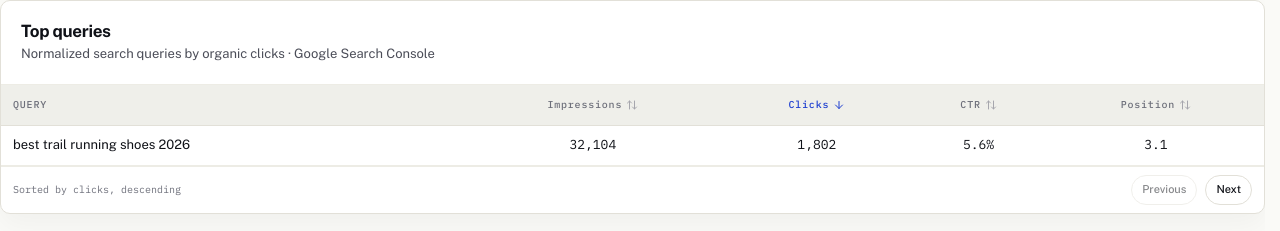
Scenario: QueriesTable › walks keyset pages with Next/Previous
The width and height of the screenshot is (1280, 231).
Expected: the text "best trail running shoes 2026" is shown, [1,125,461,165]
What coordinates should you click on to do the following:
click the button "Next"
I would click on:
 (1229, 190)
Its box is [1205,175,1252,205].
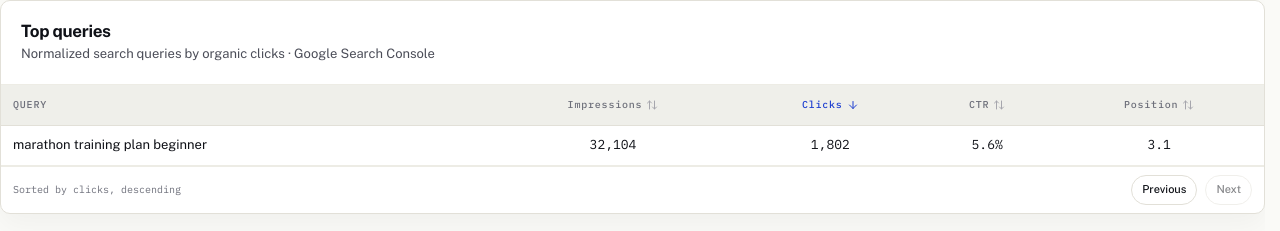
Expected: the text "marathon training plan beginner" is shown, [1,125,486,165]
Expected: the text "best trail running shoes 2026" is gone
What coordinates should you click on to do the following:
click the button "Previous"
I would click on:
 (1164, 190)
Its box is [1131,175,1197,205].
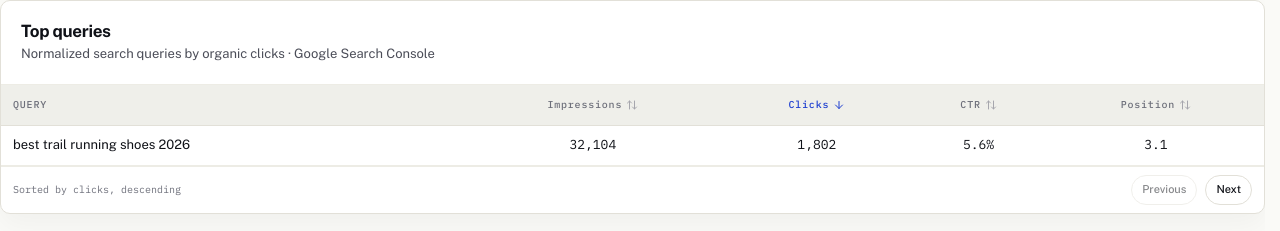
Expected: the text "best trail running shoes 2026" is shown, [1,125,461,165]
